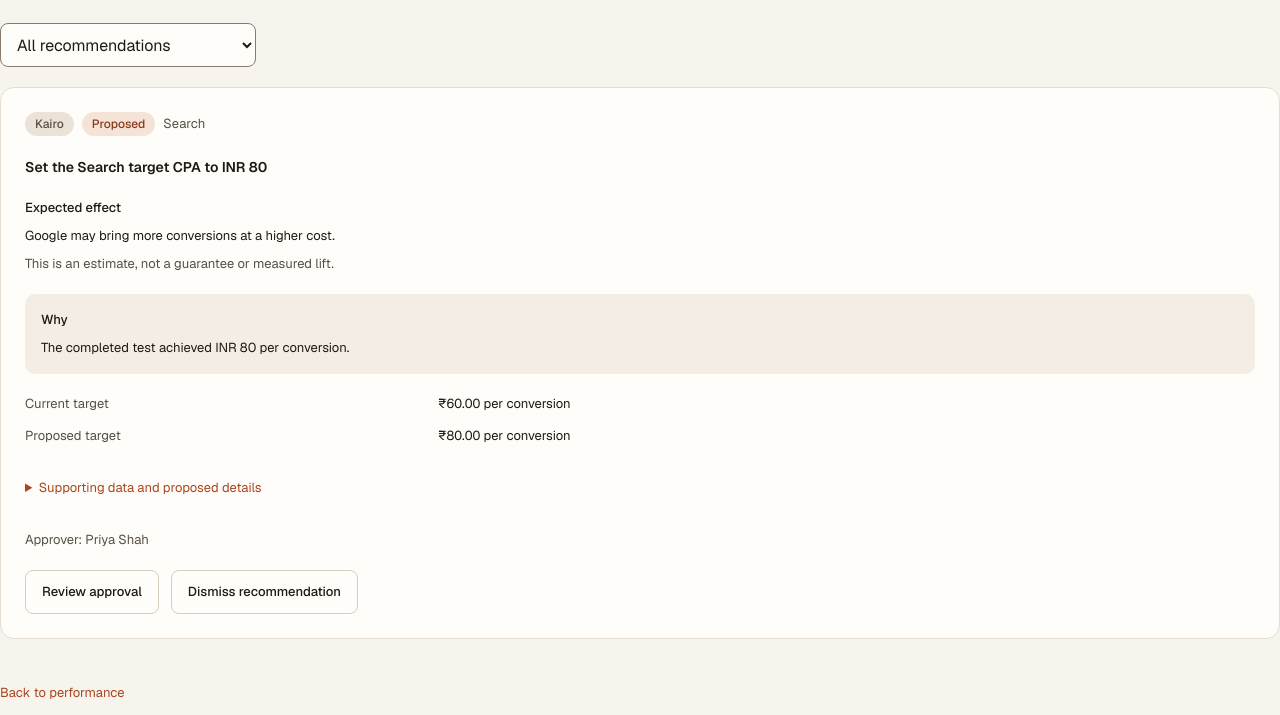
approval requires an explicit spending confirmation and applies once
(page scrolled)
Click the button "Review approval" at (92,592), box [25, 570, 159, 614]
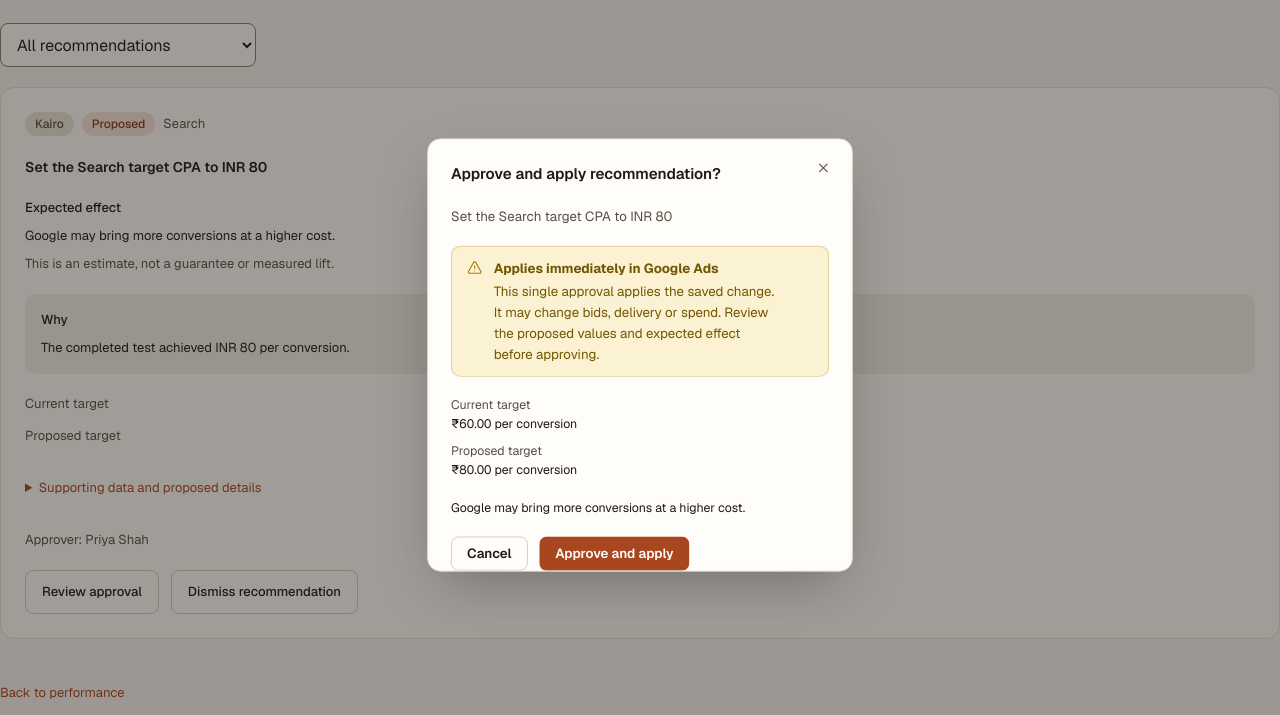
Now the text "Applies immediately in Google Ads" is shown, box [494, 260, 719, 277]
Now the dialog shows "may change bids, delivery or spend", box [494, 283, 774, 363]
Click the button "Approve and apply" at (614,554), box [539, 536, 690, 571]
(page scrolled)
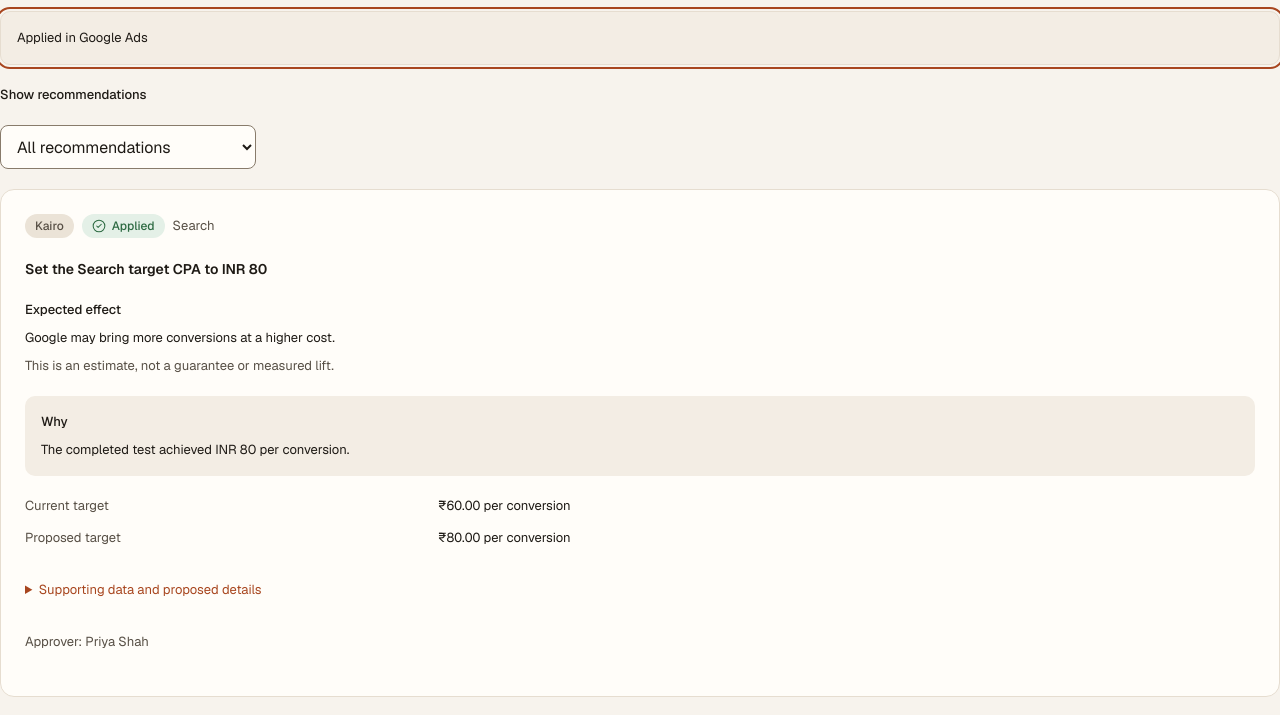
Now the button "Review approval" is gone
Now the text "Applied" is shown, box [82, 214, 165, 238]
